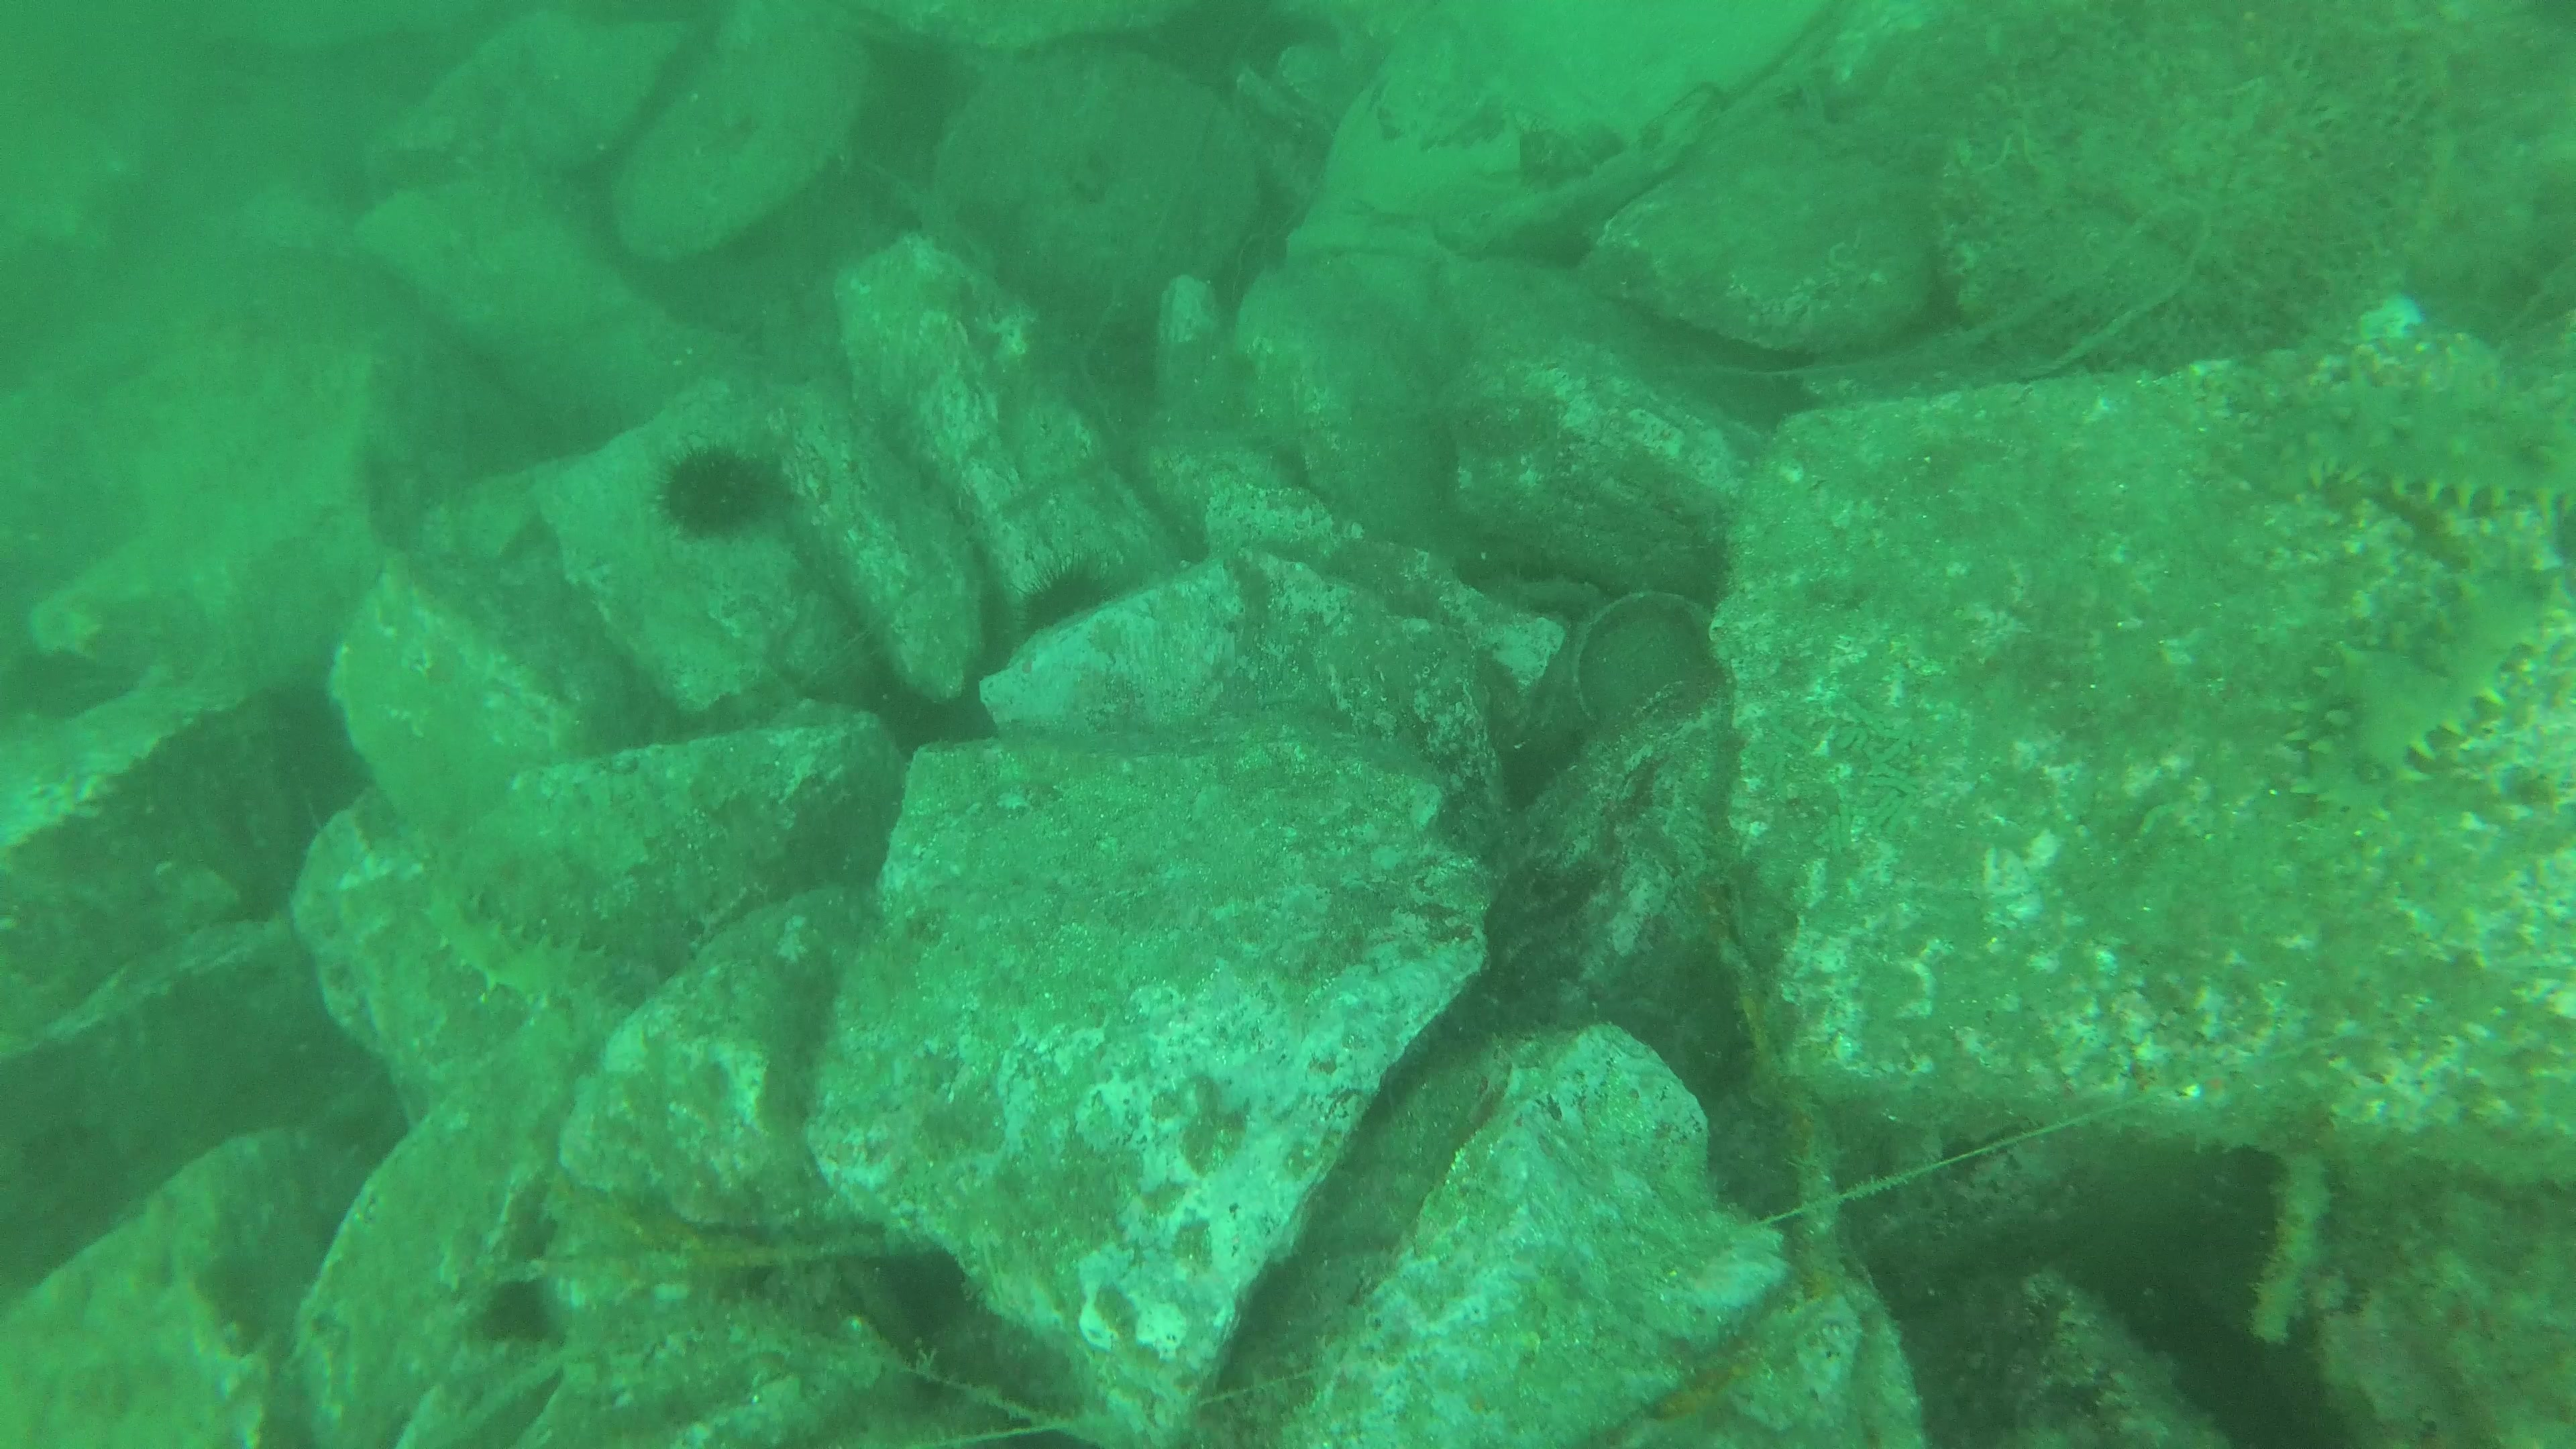echinus: (660, 439, 786, 538)
holothurian: (2289, 538, 2564, 830), (2279, 375, 2569, 513)
